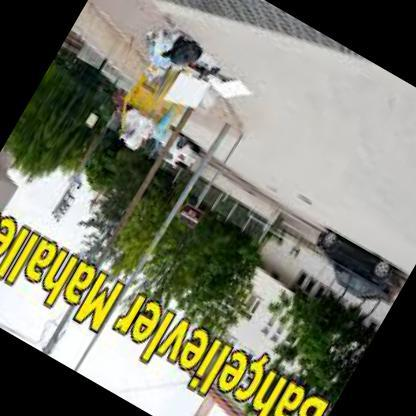Garbage: (124, 8, 230, 110), (198, 62, 255, 119), (116, 114, 161, 154)
